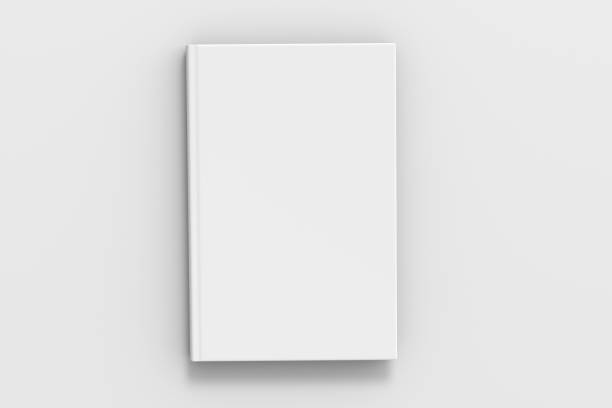dikdortgen: (185, 42, 403, 361)
